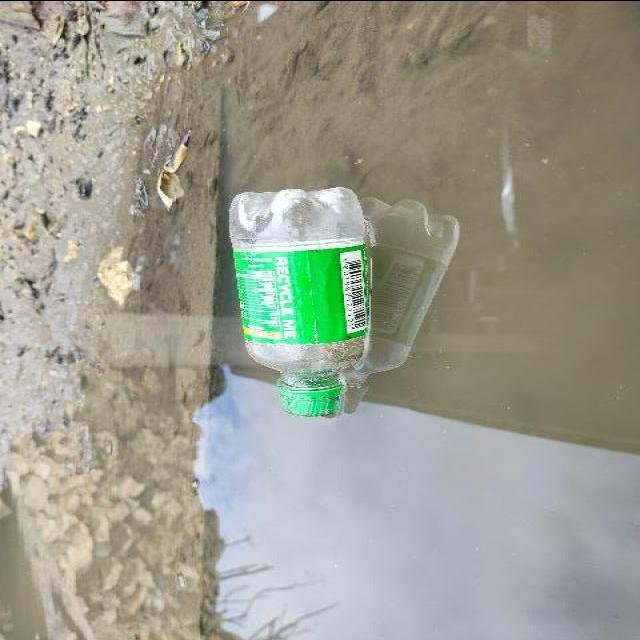Bottle: (223, 178, 387, 426)
